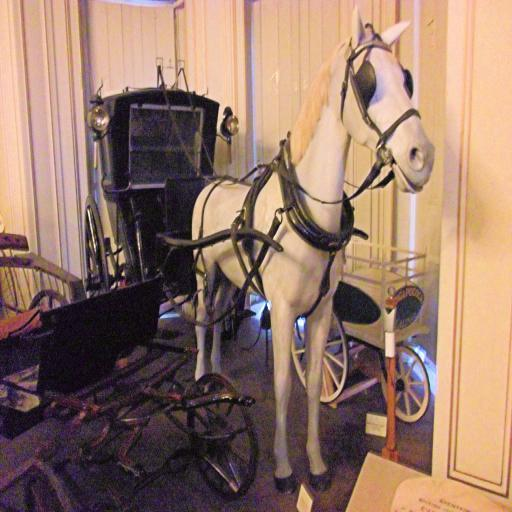horse: (188, 2, 435, 494)
